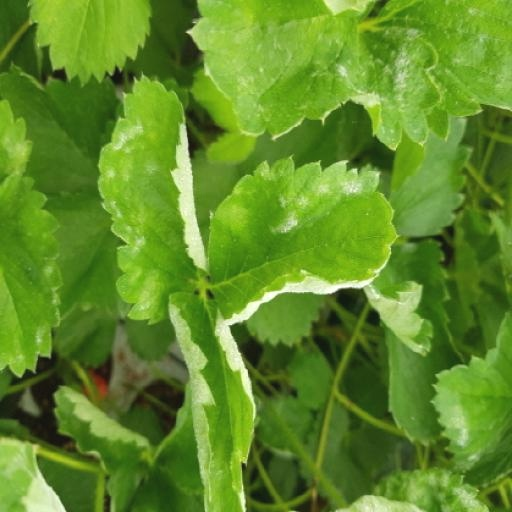Powdery Mildew Leaf: (111, 187, 305, 356), (300, 186, 416, 438), (136, 372, 329, 511), (0, 361, 165, 511), (253, 0, 345, 222), (0, 37, 84, 201), (20, 0, 183, 45)
